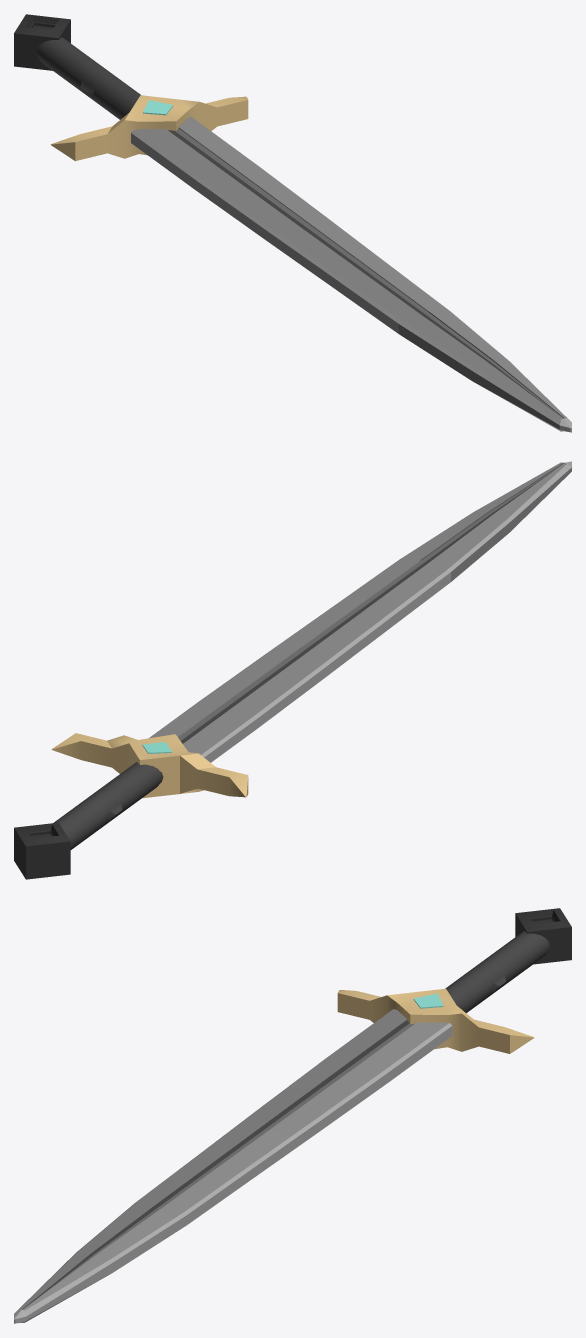
Rendered from sword.fbx.
3 renders of one model, top to bottom at view 1: azimuth 30°, elevation 25°; view 2: azimuth 150°, elevation 25°; view 3: azimuth 330°, elevation 25°, orthographic.
Parts seen in each view (by area): view 1: pCylinder2; view 2: pCylinder2; view 3: pCylinder2.
Part boxes in pixels (box(x1,y1,x2,y2)): pCylinder2: box(14, 14, 571, 432); pCylinder2: box(14, 461, 571, 879); pCylinder2: box(14, 908, 571, 1323).
Bounding box in the file's own units: 4.87 × 0.9749 × 23.54.
